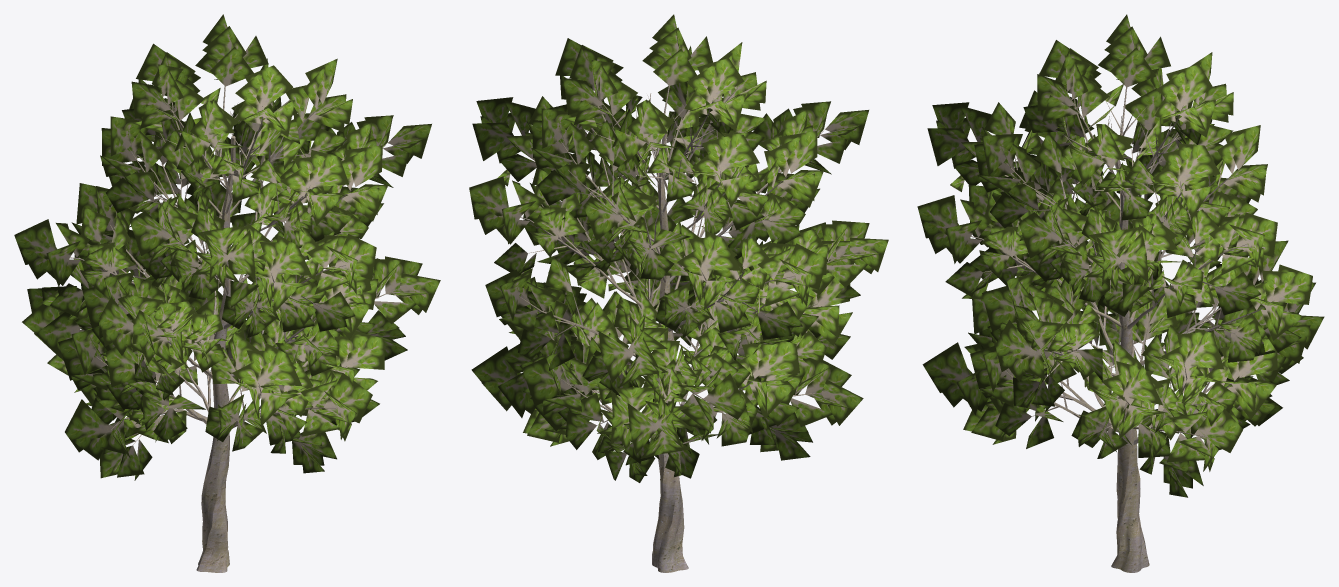
Rendered from beechTree.fbx.
3 renders of one model, left to right at view 1: azimuth 30°, elevation 25°; view 2: azimuth 150°, elevation 25°; view 3: azimuth 270°, elevation 25°, orthographic.
Visible parts, largest first — view 1: Tree_1, Tree_0; view 2: Tree_1, Tree_0; view 3: Tree_1, Tree_0.
Boxes of the visible parts, left/top/right/bottom form: Tree_1: left=14, top=14, right=440, bottom=480; Tree_0: left=70, top=86, right=399, bottom=572; Tree_1: left=469, top=14, right=888, bottom=482; Tree_0: left=519, top=85, right=849, bottom=572; Tree_1: left=917, top=14, right=1324, bottom=497; Tree_0: left=971, top=87, right=1272, bottom=572.
Size of the model in its own units: 289 by 380 by 268.
Materials: 2 (2 with a texture image).
